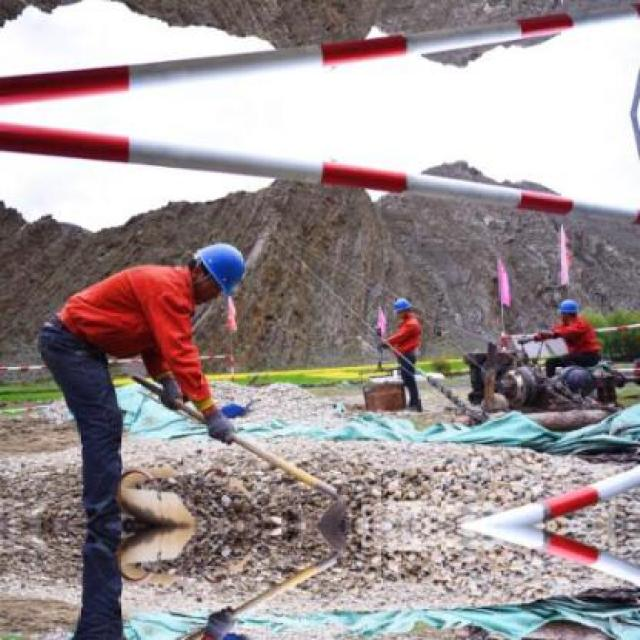helmet: (185, 237, 249, 304), (554, 294, 581, 327), (389, 294, 411, 320)
